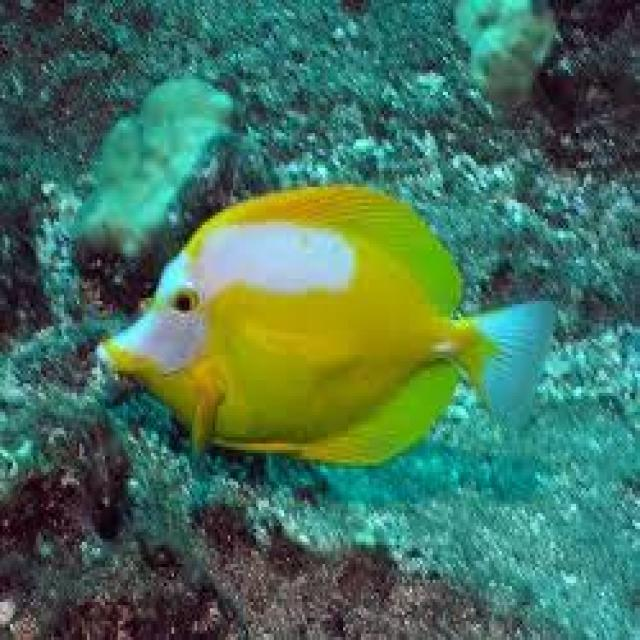YellowTang: (89, 170, 556, 507)
